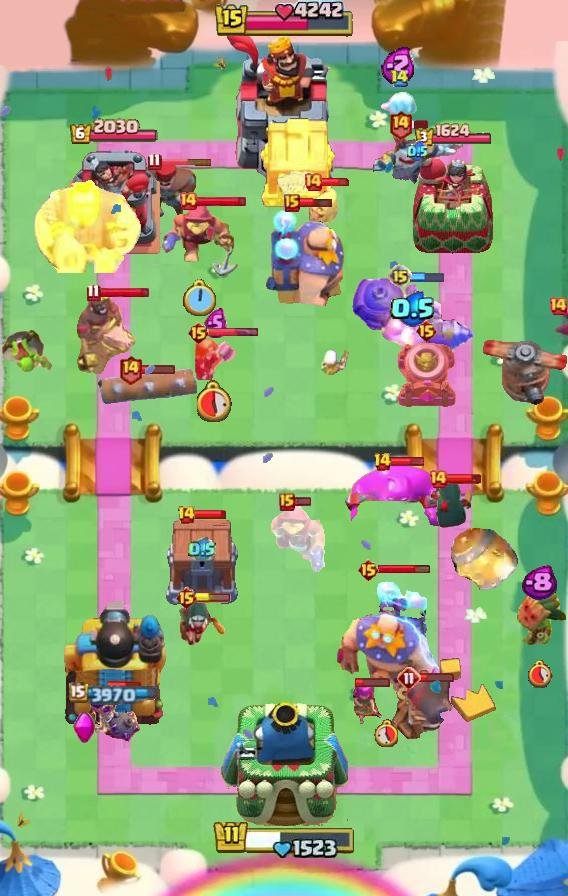bar-level: (0, 328, 54, 376)
bat: (380, 92, 418, 126)
bat-evolution: (308, 184, 342, 228)
bomb: (258, 115, 338, 209), (163, 520, 241, 606)
cannon: (343, 683, 385, 729)
clock: (212, 816, 356, 858), (213, 0, 355, 40)
clone: (341, 464, 453, 530)
dark-prince: (480, 321, 568, 405)
dirt: (445, 517, 521, 597)
electro-spirit: (390, 291, 436, 327), (381, 45, 417, 84), (521, 565, 557, 601), (188, 537, 216, 562), (205, 308, 228, 338), (407, 141, 428, 163)
elixir: (197, 380, 233, 422), (183, 279, 218, 319), (526, 659, 553, 688), (374, 719, 398, 747)
elixir-golem-small: (369, 127, 465, 197)
emote: (196, 195, 248, 208), (99, 286, 150, 299), (378, 565, 431, 576), (207, 327, 259, 338), (159, 158, 213, 167), (298, 195, 334, 208), (410, 270, 446, 283), (390, 456, 426, 468), (446, 473, 482, 485), (108, 680, 142, 692), (140, 364, 176, 375), (419, 672, 455, 683), (355, 677, 391, 688), (193, 509, 227, 520), (195, 593, 231, 603), (320, 177, 352, 187), (410, 119, 430, 130), (292, 497, 312, 508)
fireball: (160, 203, 240, 277), (265, 505, 327, 575)
freeze: (73, 288, 139, 374)
giant-skeleton: (32, 179, 142, 273)
goblin-ball: (86, 689, 142, 745)
goblin-barrel: (510, 577, 568, 647)
goblin-cage: (394, 340, 458, 410)
heal-spirit: (316, 347, 352, 379)
hog-rider: (192, 337, 238, 383)
king-tower: (223, 31, 345, 181), (220, 702, 348, 827)
little-prince: (333, 575, 439, 703), (261, 208, 349, 308)
minion: (97, 368, 197, 404)
phoenix-small: (133, 158, 199, 220)
queen-tower: (64, 146, 164, 256), (410, 152, 496, 256)
royal-giant-evolution: (389, 675, 457, 745)
selected: (69, 118, 159, 146), (68, 683, 159, 706), (414, 124, 494, 149)
skeleton-king-skill: (72, 711, 96, 745)
tesla: (177, 596, 225, 648), (428, 477, 474, 531)
text: (387, 109, 412, 140), (117, 354, 142, 385), (388, 264, 412, 288), (414, 319, 438, 343), (397, 666, 421, 690), (187, 321, 210, 345), (356, 558, 379, 582), (175, 586, 198, 610), (303, 172, 323, 192), (178, 191, 198, 211), (548, 296, 568, 316), (428, 469, 448, 489), (372, 452, 391, 472), (177, 505, 196, 525), (390, 69, 409, 88), (284, 194, 300, 212), (279, 493, 295, 511), (147, 153, 162, 172), (87, 283, 101, 301)
tower-bar: (58, 595, 170, 731)
wizard: (351, 277, 475, 355)
